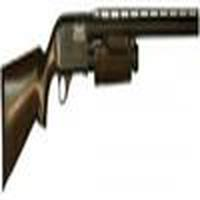gun: (2, 5, 200, 181)
